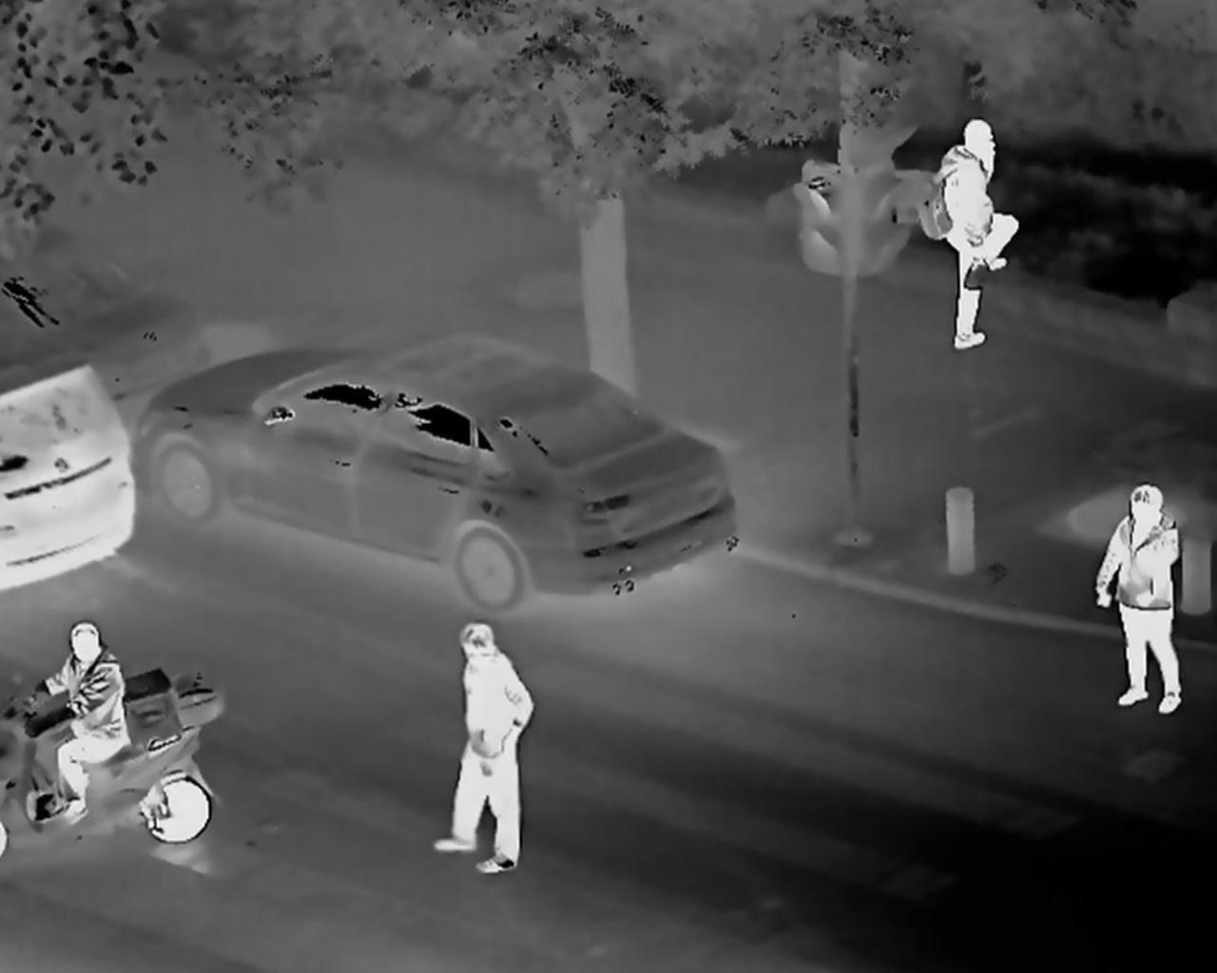person: (433, 622, 540, 887), (918, 110, 1029, 359), (29, 618, 132, 837), (1092, 485, 1182, 710)
